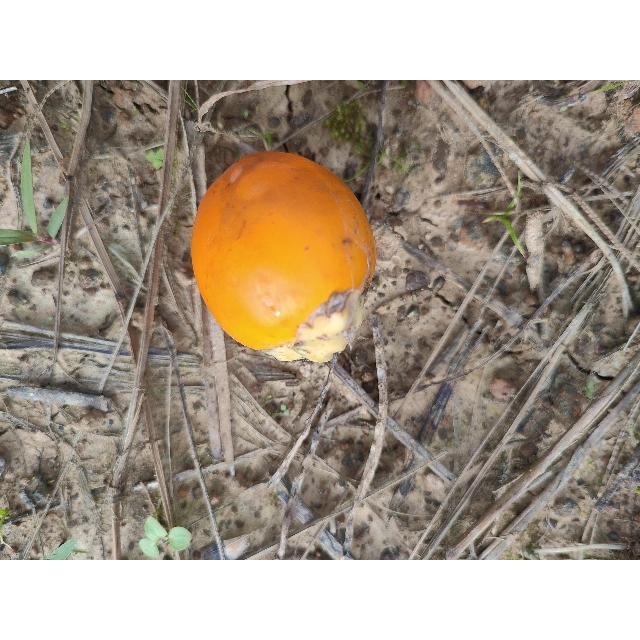good: (190, 152, 378, 361)
